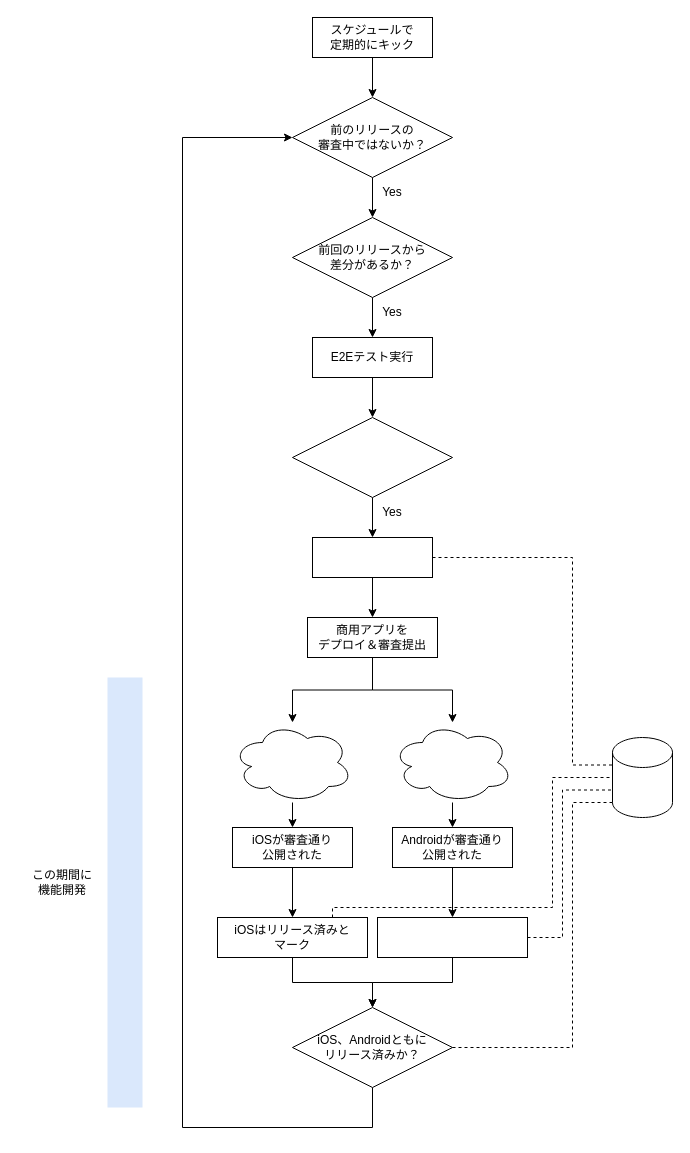
This 690x1153 diagram has some shape labels left out. The shapes that lost their labels are listed below. From the top down, each one's centre as x and y in pixels, then its label:
the point at 372,457: E2Eテストが パスしたか？
the point at 372,557: リリースの審査中と マーク
the point at 292,762: Apple
the point at 452,762: Google
the point at 452,937: Androidはリリース済みと マーク
